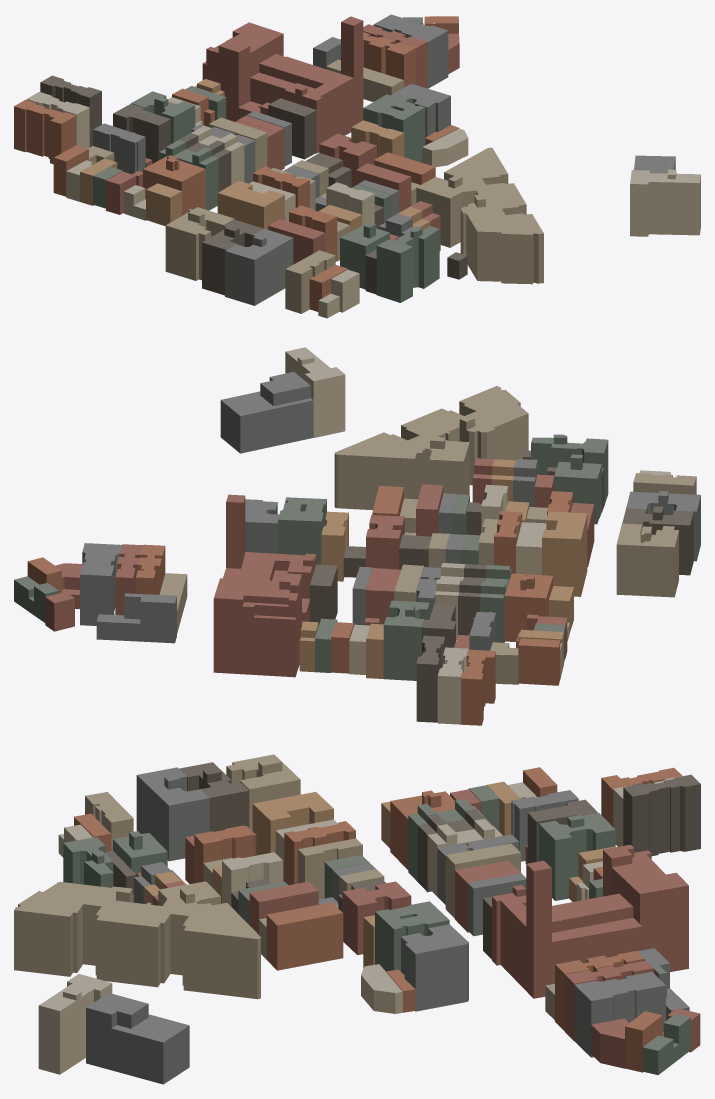
Rendered from tile--3_0.glb.
The picture shows the model from 3 angles, top to bottom: view 1: azimuth 30°, elevation 25°; view 2: azimuth 150°, elevation 25°; view 3: azimuth 270°, elevation 25°; orthographic projection. The views are drawn at different scales.
Visible parts, largest first — view 1: wall, roof; view 2: wall, roof; view 3: wall, roof.
Part boxes in pixels (left/top/right/bottom): wall: left=14, top=21, right=700, bottom=318; roof: left=14, top=14, right=700, bottom=302; wall: left=14, top=352, right=700, bottom=725; roof: left=14, top=347, right=700, bottom=679; wall: left=14, top=762, right=700, bottom=1084; roof: left=14, top=754, right=700, bottom=1050.
Bounding box in the file's own units: 205 × 44.08 × 215.
